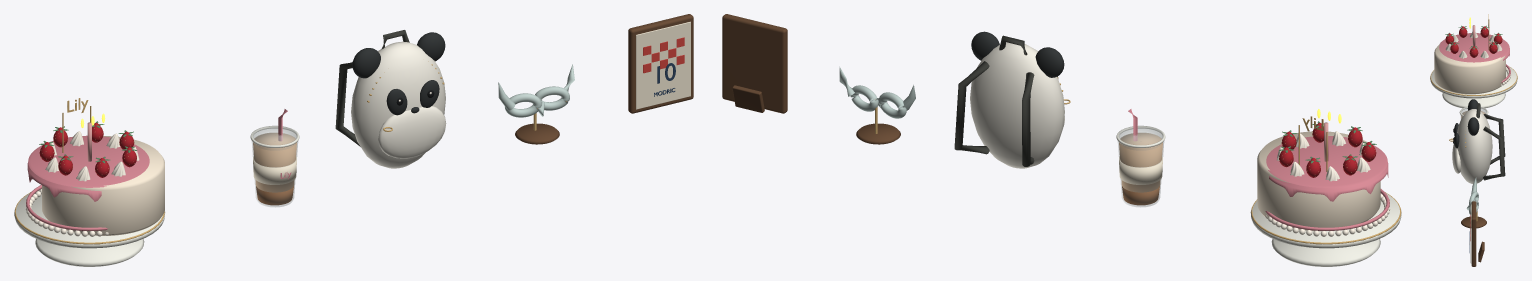
Rendered from birthday_props.glb.
3 renders of one model, left to right at view 1: azimuth 30°, elevation 25°; view 2: azimuth 150°, elevation 25°; view 3: azimuth 270°, elevation 25°, orthographic. The views are drawn at different scales.
Visible parts, largest first — view 1: Cake.VanillaSponge, Panda.MainBag, Cake.PorcelainStand, Ten.Paper, Cake.RoseTop, Panda.FrontPocket, Tea.ClearCup, Ten.WalnutFrame, Tea.MilkLayer, Tea.Sleeve, Mask.Stand, Panda.ShoulderStrap (+11 smaller); view 2: Panda.MainBag, Ten.WalnutFrame, Cake.VanillaSponge, Cake.PorcelainStand, Cake.RoseTop, Tea.ClearCup, Tea.MilkLayer, Cake.RoseDripGlaze, Panda.ShoulderStrap.001, Panda.ShoulderStrap, Tea.Sleeve, Mask.Stand (+9 smaller); view 3: Cake.VanillaSponge, Panda.MainBag, Cake.RoseTop, Cake.PorcelainStand, Ten.WalnutFrame, Panda.ShoulderStrap.001, Panda.ShoulderStrap, Mask.Stand, Panda.FrontPocket, Panda.Ear.001, Cake.StandGoldRim, Ten.Paper (+14 smaller).
Boxes of the visible parts, x1,y1,x2,y2 form: Cake.VanillaSponge: (42,136,164,235); Panda.MainBag: (351,41,445,168); Cake.PorcelainStand: (14,190,165,266); Ten.Paper: (636,21,690,109); Cake.RoseTop: (28,135,149,187); Panda.FrontPocket: (378,106,446,158); Tea.ClearCup: (251,129,298,207); Ten.WalnutFrame: (628,14,693,113); Tea.MilkLayer: (253,133,296,192); Tea.Sleeve: (253,156,296,184); Mask.Stand: (515,123,559,144); Panda.ShoulderStrap: (335,62,360,146); Panda.MainBag: (970,42,1064,168); Ten.WalnutFrame: (722,14,787,113); Cake.VanillaSponge: (1257,131,1380,231); Cake.PorcelainStand: (1250,193,1401,266); Cake.RoseTop: (1266,136,1387,187); Tea.ClearCup: (1117,129,1164,207); Tea.MilkLayer: (1119,133,1162,192); Cake.RoseDripGlaze: (1269,163,1388,201); Panda.ShoulderStrap.001: (954,61,989,154); Panda.ShoulderStrap: (1022,72,1034,166); Tea.Sleeve: (1119,156,1162,184); Mask.Stand: (856,123,900,144); Cake.VanillaSponge: (1434,44,1505,94); Panda.MainBag: (1457,109,1492,184); Cake.RoseTop: (1439,33,1509,62); Cake.PorcelainStand: (1430,66,1517,108); Ten.WalnutFrame: (1471,201,1476,266); Panda.ShoulderStrap.001: (1483,126,1505,180); Panda.ShoulderStrap: (1483,114,1505,164); Mask.Stand: (1461,216,1486,228); Panda.FrontPocket: (1452,144,1461,173); Panda.Ear.001: (1467,117,1479,135); Cake.StandGoldRim: (1430,66,1517,95); Ten.Paper: (1470,205,1471,263).
Bounding box in the file's own units: 2.16 × 0.4251 × 0.424.
